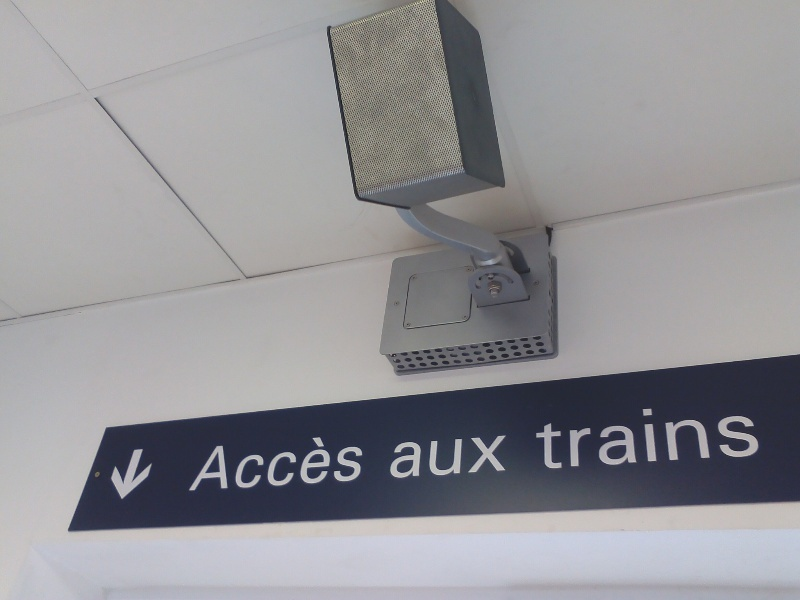text: (545, 399, 560, 471), (561, 399, 576, 471), (577, 399, 592, 471), (593, 399, 608, 471), (609, 399, 624, 471), (625, 399, 640, 471), (641, 399, 656, 471), (657, 399, 672, 471), (673, 399, 688, 471), (689, 399, 704, 471), (705, 399, 720, 471), (721, 399, 736, 471), (737, 399, 752, 471), (225, 435, 240, 493), (241, 435, 256, 493), (257, 435, 272, 493), (273, 435, 288, 493), (289, 435, 304, 493), (305, 435, 320, 493), (321, 435, 336, 493), (337, 435, 352, 493), (353, 435, 367, 493), (753, 399, 763, 471), (401, 434, 416, 481), (417, 434, 432, 481), (433, 434, 448, 481), (449, 434, 464, 481), (465, 434, 480, 481), (481, 434, 496, 481), (536, 399, 544, 471), (497, 434, 509, 481), (395, 434, 400, 481), (220, 435, 224, 493)
